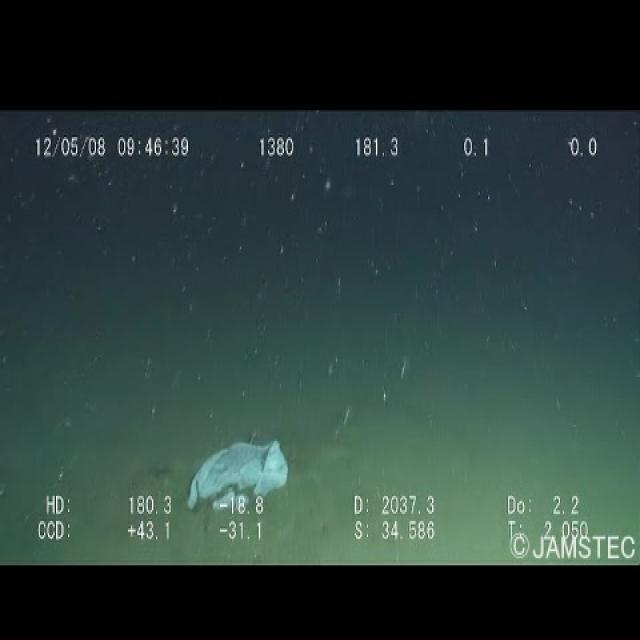plastic: (183, 434, 296, 516)
